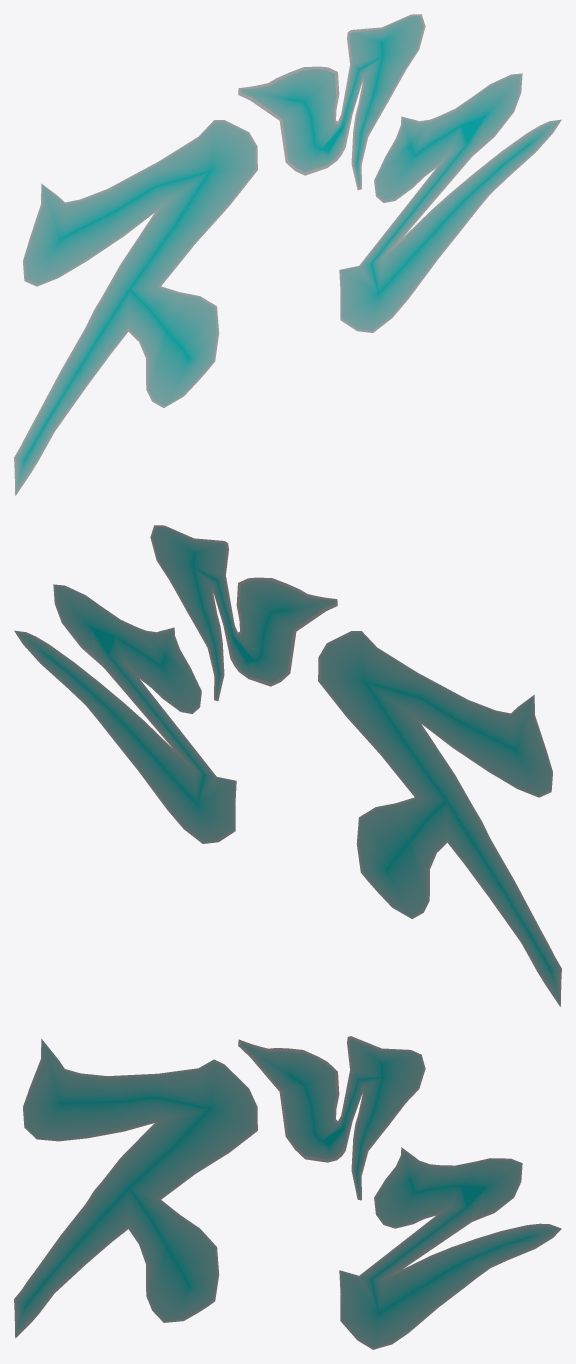
Rendered from SM_EFF_Text_BDHouse_01.glb.
3 views of the same model, one above another, from view 1: azimuth 30°, elevation 25°; view 2: azimuth 150°, elevation 25°; view 3: azimuth 330°, elevation 25° (orthographic).
Parts seen in each view (by area): view 1: SM_EFF_Text_BDHouse_01; view 2: SM_EFF_Text_BDHouse_01; view 3: SM_EFF_Text_BDHouse_01.
Part boxes in pixels (x1,y1,x2,y2): SM_EFF_Text_BDHouse_01: [14, 14, 561, 495]; SM_EFF_Text_BDHouse_01: [14, 525, 561, 1006]; SM_EFF_Text_BDHouse_01: [14, 1036, 561, 1349].
Bounding box in the file's own units: 1.77 × 1.19 × 0.0011.
